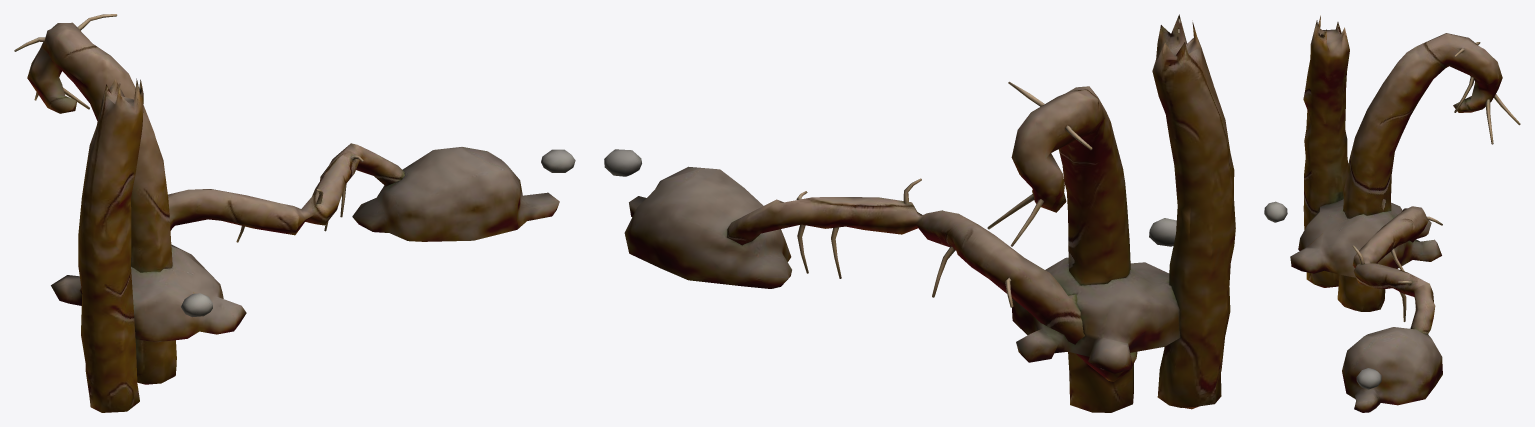
File: rootlet_b.glb
3 renders of one model, left to right at view 1: azimuth 30°, elevation 25°; view 2: azimuth 150°, elevation 25°; view 3: azimuth 270°, elevation 25°, orthographic. The views are drawn at different scales.
Parts seen in each view (by area): view 1: bark, soil, rock, rootlets; view 2: bark, soil, rootlets, rock; view 3: bark, soil, rootlets, rock.
Boxes of the visible parts, <box> form: bark: <box>27,22,404,412</box>; soil: <box>51,147,559,342</box>; rock: <box>181,149,575,317</box>; rootlets: <box>14,14,363,242</box>; bark: <box>727,14,1235,412</box>; soil: <box>624,166,1180,373</box>; rootlets: <box>796,81,1092,307</box>; rock: <box>604,149,1176,246</box>; bark: <box>1303,15,1502,334</box>; soil: <box>1290,199,1442,412</box>; rootlets: <box>1352,42,1520,321</box>; rock: <box>1264,201,1381,389</box>.
Size of the model in its own units: 0.4618 by 0.2847 by 0.2412.
4 materials, 4 textured.
